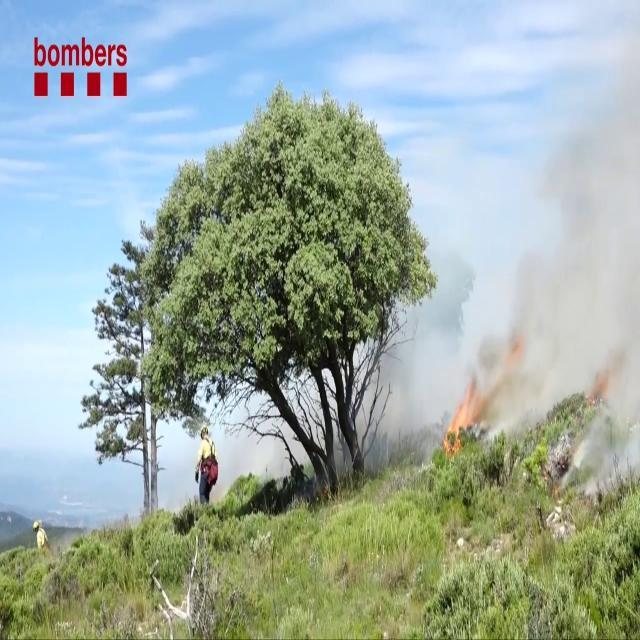Fire: (442, 376, 482, 456)
Smoke: (434, 8, 640, 480)
